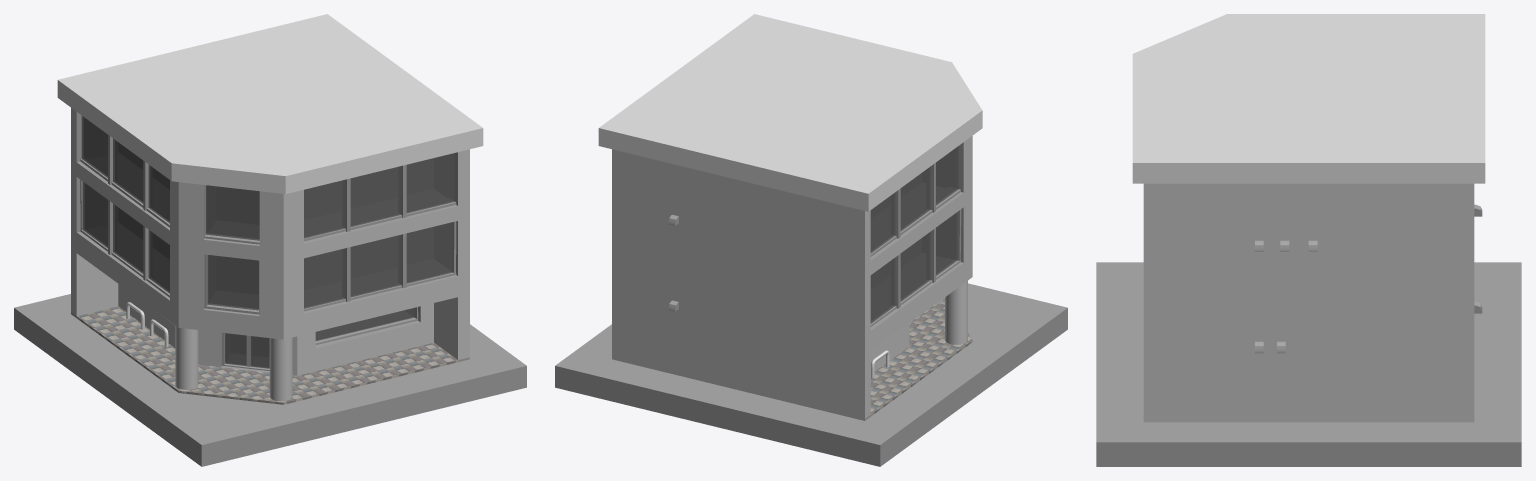
The model's file is building5_mid.fbx.
3 views of the same model, side by side, from view 1: azimuth 30°, elevation 25°; view 2: azimuth 150°, elevation 25°; view 3: azimuth 270°, elevation 25° (orthographic). The views are drawn at different scales.
Parts seen in each view (by area): view 1: polySurface340; view 2: polySurface340; view 3: polySurface340.
Part boxes in pixels (x1,y1,x2,y2): polySurface340: (14, 14, 526, 466); polySurface340: (555, 14, 1067, 466); polySurface340: (1096, 14, 1521, 466).
Size of the model in its own units: 14.49 by 10.84 by 14.49.
